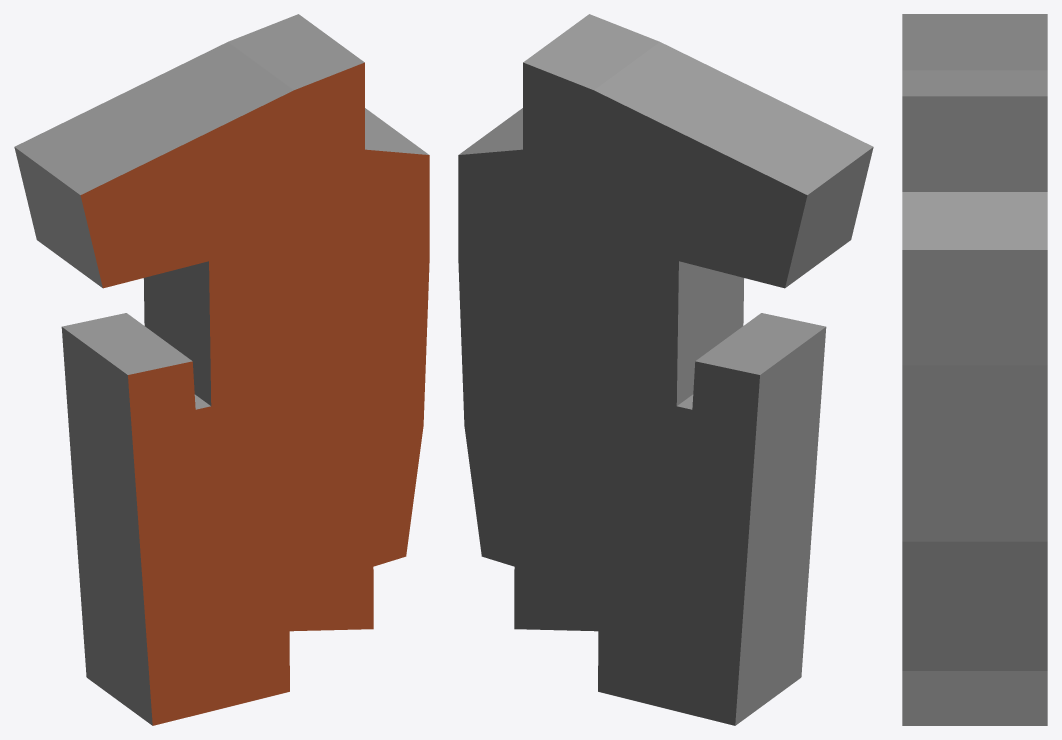
File: construction_0717_assumed_A_Casa_h6m.obj
3 views of the same model, side by side, from view 1: azimuth 30°, elevation 25°; view 2: azimuth 150°, elevation 25°; view 3: azimuth 270°, elevation 25° (orthographic). The views are drawn at different scales.
Visible parts, largest first — view 1: construction_0717_assumed_A_Casa; view 2: construction_0717_assumed_A_Casa; view 3: construction_0717_assumed_A_Casa.
Part boxes in pixels (box(x1,y1,x2,y2)): construction_0717_assumed_A_Casa: box(14, 14, 429, 725); construction_0717_assumed_A_Casa: box(458, 14, 873, 725); construction_0717_assumed_A_Casa: box(902, 14, 1047, 725).
Size of the model in its own units: 18.27 by 30.59 by 6.
